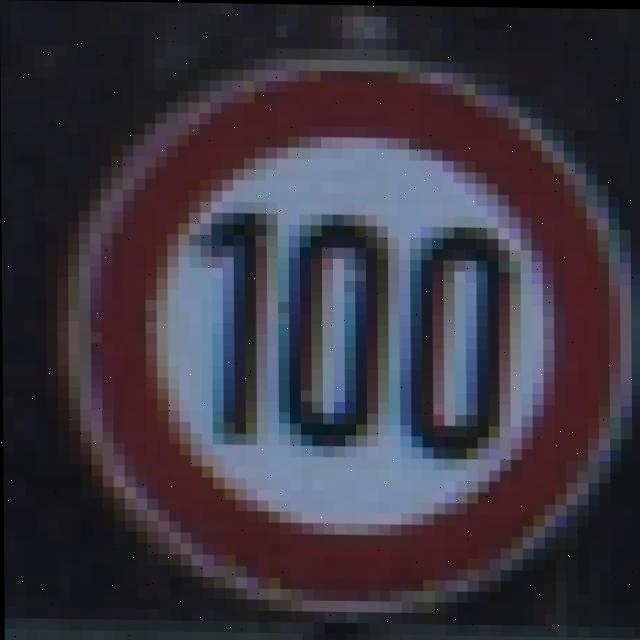speed_limit_100: (55, 34, 640, 616)
